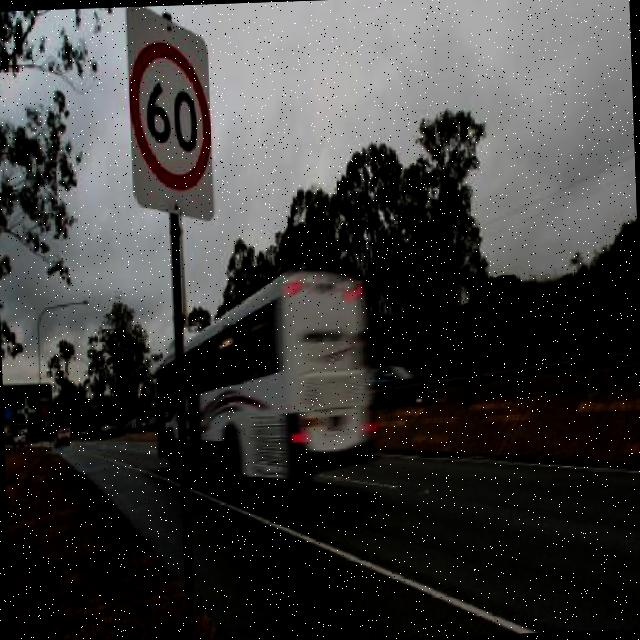Ograniczenie predkosci do 60: (126, 33, 216, 197)
